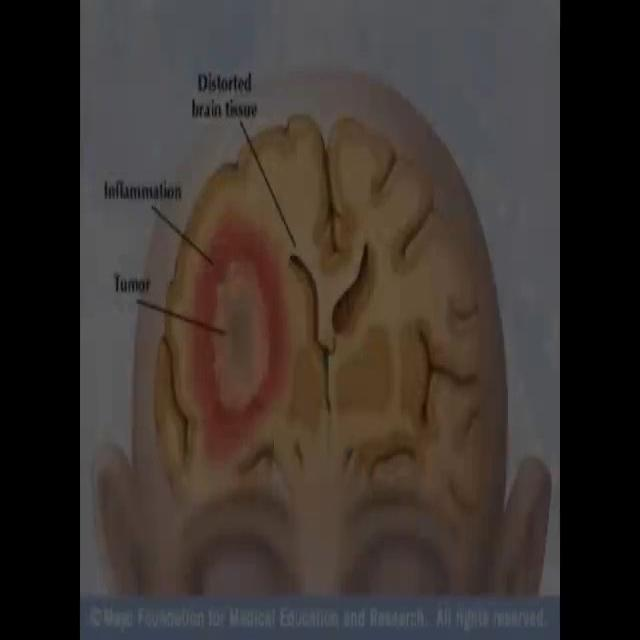tumor: (174, 164, 295, 476)
